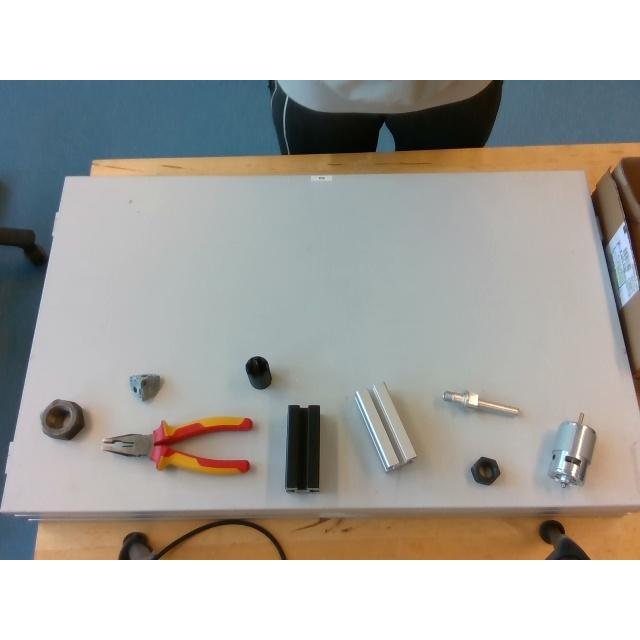M20: (470, 457, 500, 485)
M30: (40, 399, 84, 439)
Motor2: (548, 414, 596, 486)
S40_40_B: (285, 405, 319, 491)
S40_40_G: (354, 381, 416, 471)
